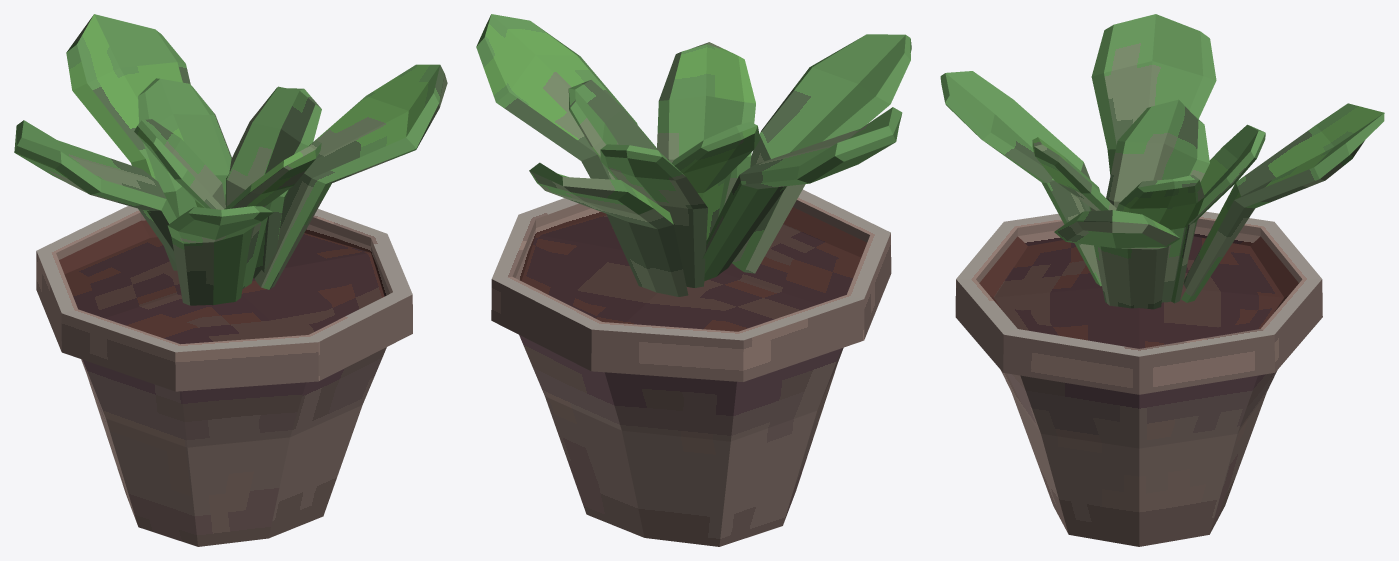
File: Pots1.fbx
3 renders of one model, left to right at view 1: azimuth 30°, elevation 25°; view 2: azimuth 150°, elevation 25°; view 3: azimuth 270°, elevation 25°, orthographic. The views are drawn at different scales.
Visible parts, largest first — view 1: 1; view 2: 1; view 3: 1.
Boxes of the visible parts, x1,y1,x2,y2 form: 1: (14, 14, 447, 546); 1: (476, 14, 911, 546); 1: (940, 14, 1384, 546).
Bounding box in the file's own units: 632 × 606 × 607.
Materials: 1 (1 with a texture image).
